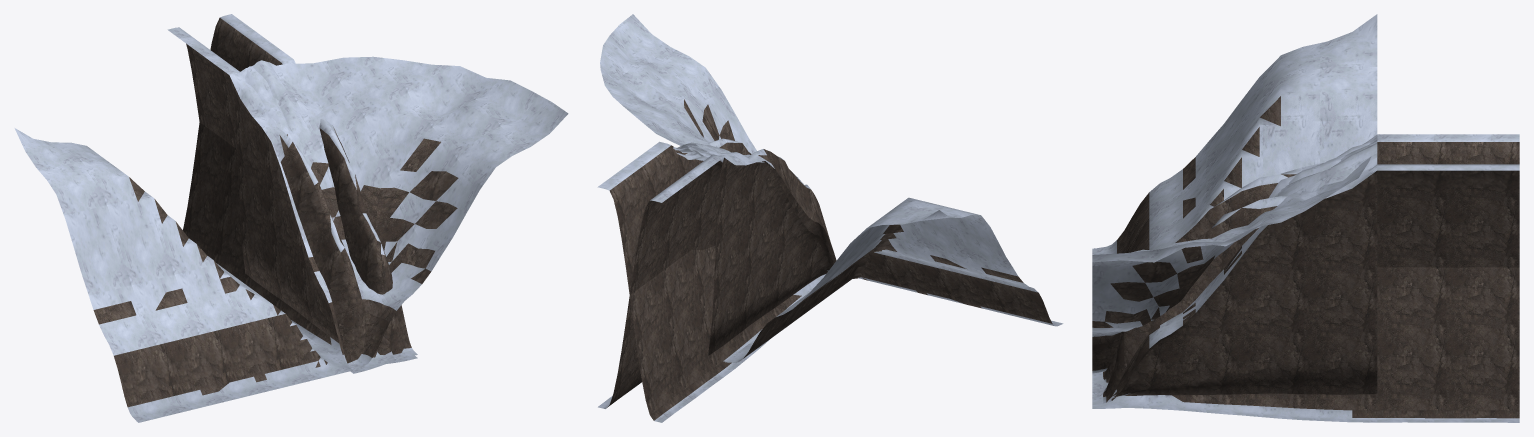
File: bk_mountain_winter.glb
3 renders of one model, left to right at view 1: azimuth 30°, elevation 25°; view 2: azimuth 150°, elevation 25°; view 3: azimuth 270°, elevation 25°, orthographic. The views are drawn at different scales.
Parts seen in each view (by area): view 1: corner_inner, corner_outer, endcap_sea_to_land, pass12, endcap_land_to_sea, straight12_a, straight12_c, straight6, straight12_b; view 2: endcap_sea_to_land, corner_inner, pass12, corner_outer, endcap_land_to_sea; view 3: endcap_land_to_sea, pass12, corner_inner, endcap_sea_to_land, corner_outer, straight12_a, straight12_b, straight12_c.
Part boxes in pixels (x1,y1,x2,y2): corner_inner: [14, 128, 353, 422]; corner_outer: [238, 56, 568, 370]; endcap_sea_to_land: [183, 14, 412, 373]; pass12: [229, 76, 417, 369]; endcap_land_to_sea: [167, 27, 417, 366]; straight12_a: [239, 60, 416, 368]; straight12_c: [244, 62, 322, 149]; straight6: [229, 73, 337, 331]; straight12_b: [234, 72, 396, 360]; endcap_sea_to_land: [597, 138, 825, 422]; corner_inner: [724, 197, 1063, 362]; pass12: [708, 157, 833, 355]; corner_outer: [600, 14, 756, 162]; endcap_land_to_sea: [598, 149, 836, 408]; endcap_land_to_sea: [1092, 134, 1519, 422]; pass12: [1092, 171, 1377, 405]; corner_inner: [1092, 14, 1377, 254]; endcap_sea_to_land: [1103, 164, 1519, 403]; corner_outer: [1092, 139, 1376, 373]; straight12_a: [1093, 140, 1377, 404]; straight12_b: [1103, 136, 1377, 393]; straight12_c: [1111, 141, 1377, 398].
Bounding box in the file's own units: 80 × 40.34 × 60.
Materials: 3 (3 with a texture image).
